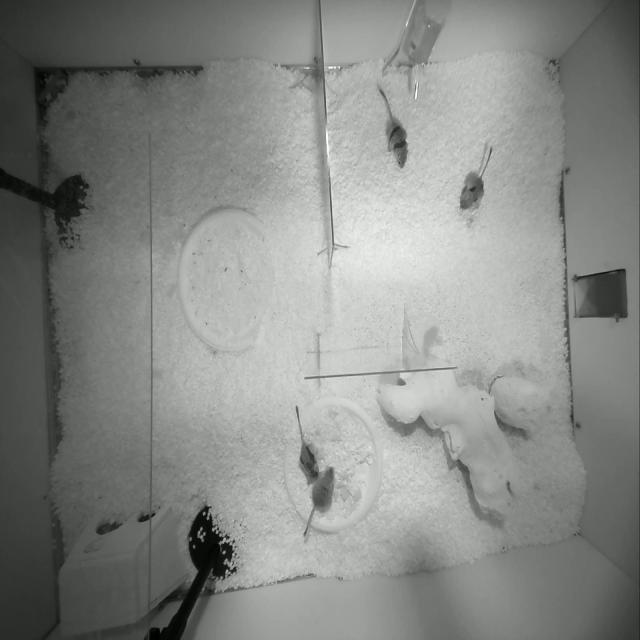pup_fluffy: (304, 467, 334, 535)
pup_h_stripe: (378, 85, 408, 168)
pup_spotted: (460, 147, 492, 209)
pup_v_stripe: (296, 405, 318, 480)
